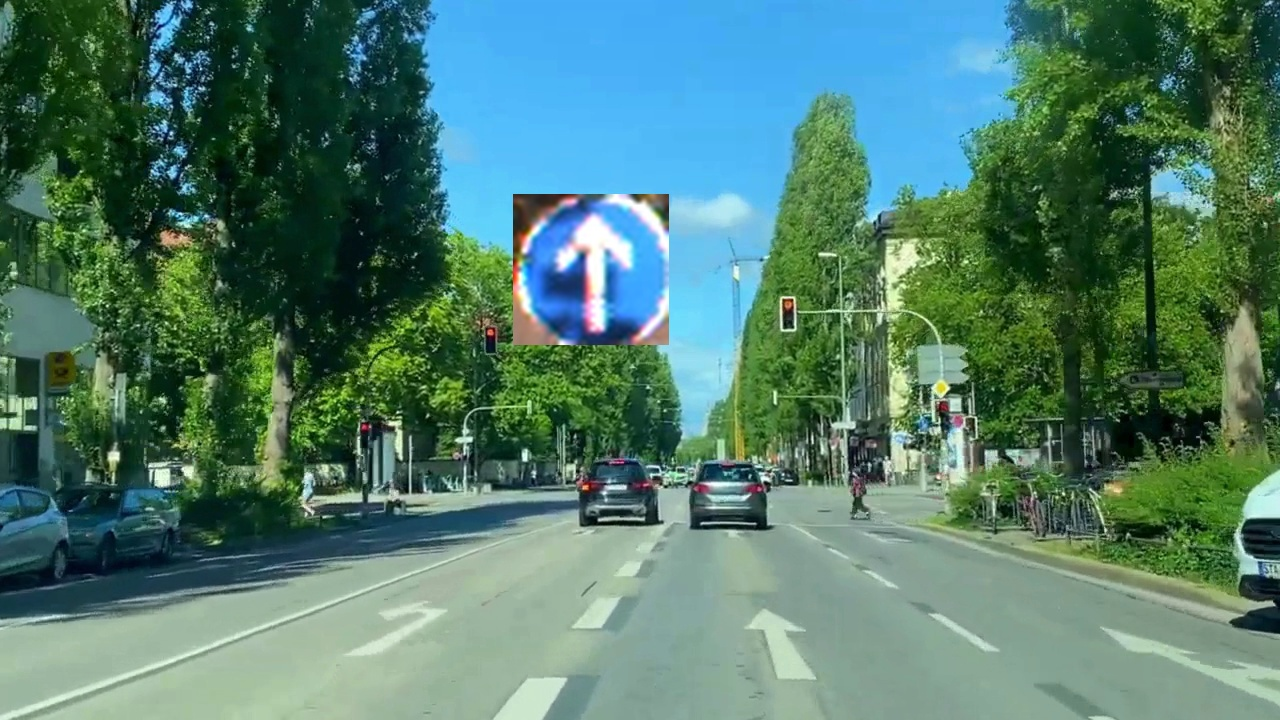Ahead only: (513, 194, 669, 345)
